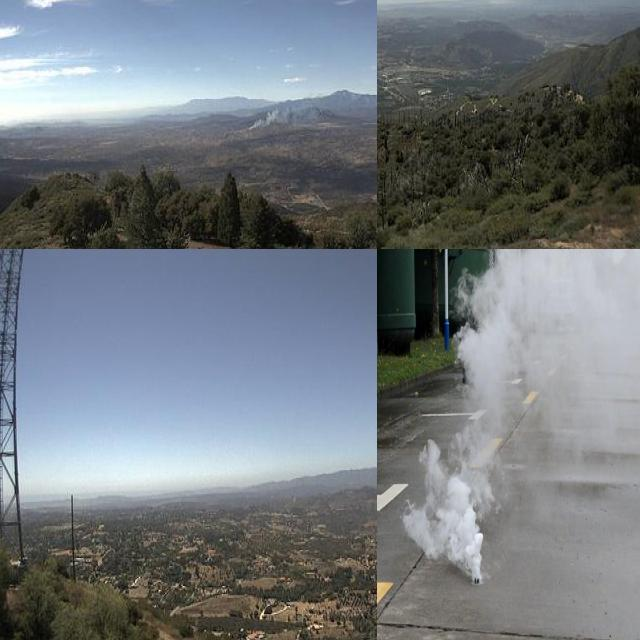smoke: (404, 249, 640, 582), (239, 102, 312, 136)
